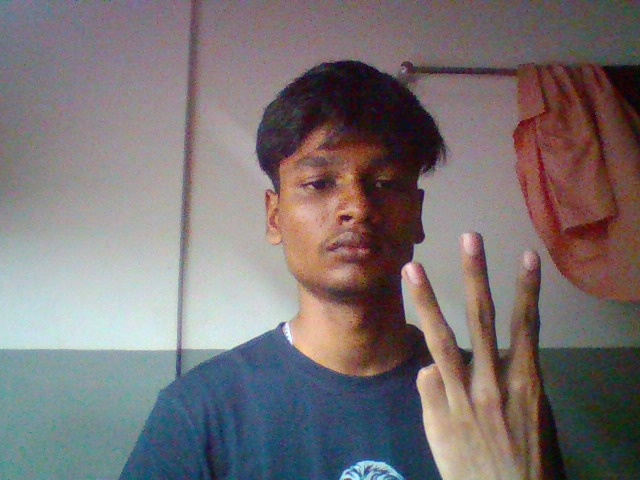W: (367, 228, 586, 480)
